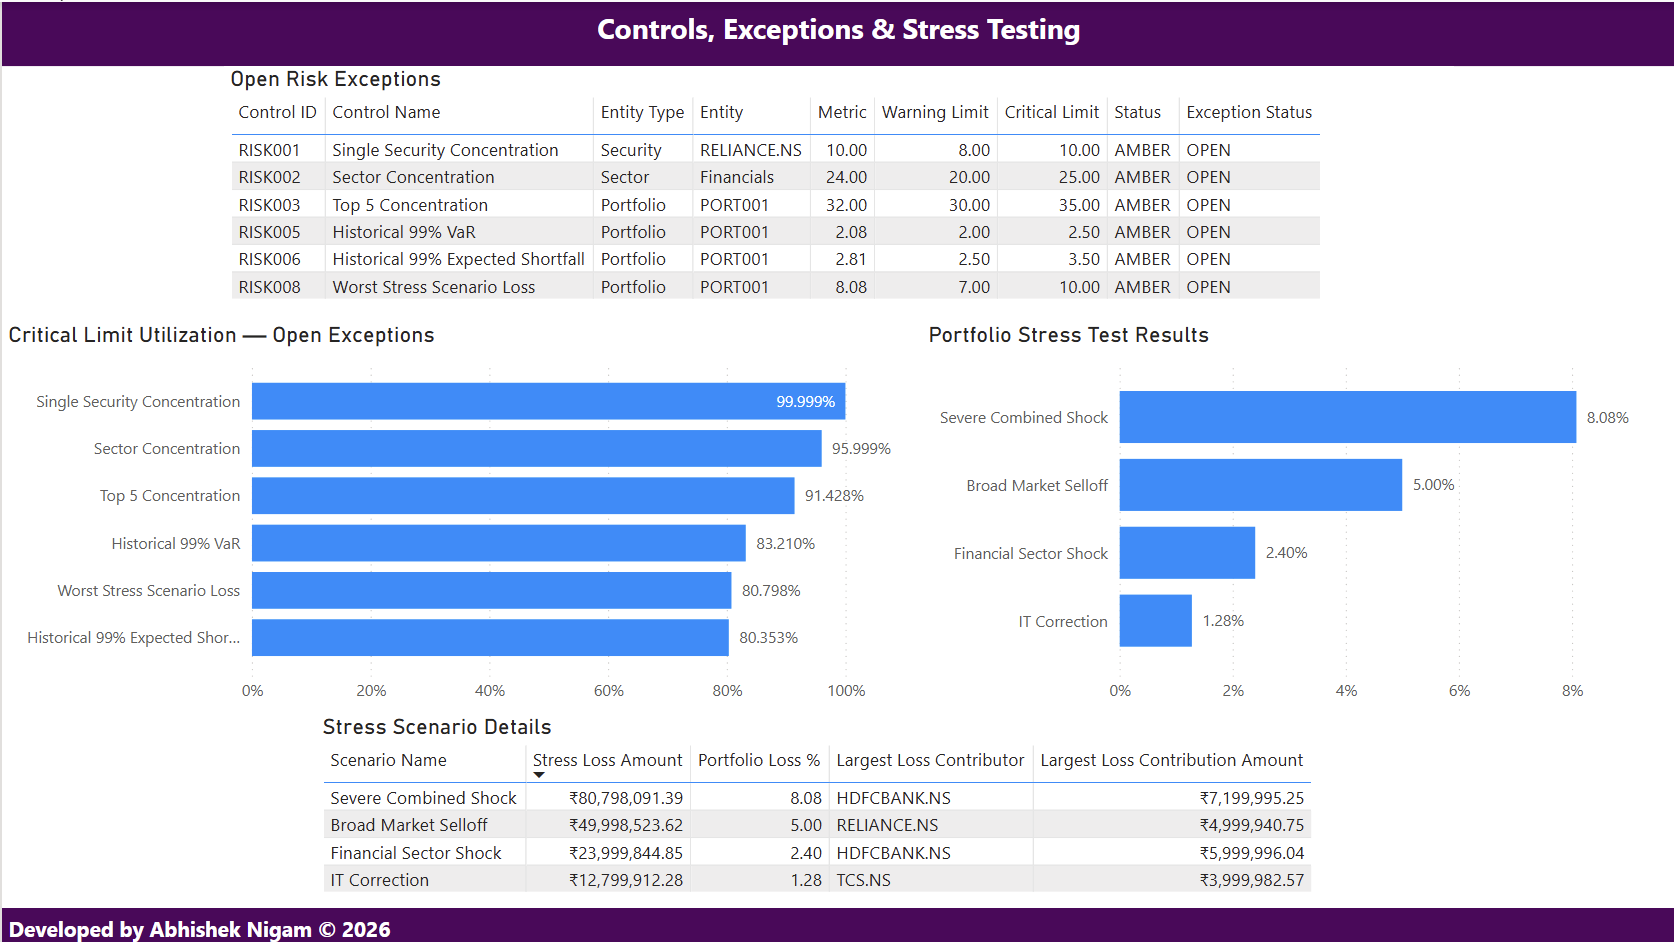

What the dashboard file says about the page in this screenshot:
{"tool":"powerbi","page":{"name":"Controls & Stress","canvas":[1280,720],"ordinal":2},"visuals":[{"type":"textbox","box":[0,0,1280,48.9],"z":0},{"type":"tableEx","title":"Open Risk Exceptions","fields":{"Values":["risk_platform vw_controls_exceptions.control_id","risk_platform vw_controls_exceptions.control_name","risk_platform vw_controls_exceptions.entity_type","risk_platform vw_controls_exceptions.entity_name","risk_platform vw_controls_exceptions.metric_value","risk_platform vw_controls_exceptions.warning_threshold","risk_platform vw_controls_exceptions.critical_threshold","risk_platform vw_controls_exceptions.status","risk_platform vw_controls_exceptions.exception_status"]},"box":[169.7,48.9,940.5,183.5],"z":1000},{"type":"clusteredBarChart","title":"Critical Limit Utilization — Open Exceptions","fields":{"Category":["risk_platform vw_controls_exceptions.control_name"],"Y":["risk_platform vw_controls_exceptions.Critical Limit Utilization"]},"box":[0,244.7,712.6,299.7],"z":2000},{"type":"clusteredBarChart","title":"Portfolio Stress Test Results","fields":{"Category":["risk_platform vw_stress_scenarios.scenario_name"],"Y":["risk_platform vw_stress_scenarios.Stress Loss Display"]},"box":[703.5,244.7,558.2,299.7],"z":3000},{"type":"tableEx","title":"Stress Scenario Details","fields":{"Values":["risk_platform vw_stress_scenarios.scenario_name","risk_platform vw_stress_scenarios.stress_loss_amount","risk_platform vw_stress_scenarios.portfolio_loss_pct","risk_platform vw_stress_scenarios.largest_loss_contributor","risk_platform vw_stress_scenarios.largest_loss_contribution_amount"]},"box":[240.1,544.4,804.4,148.3],"z":4000},{"type":"textbox","box":[0,692.8,1280,30.6],"z":4001}]}

Visuals, with their boxes in screenshot pixels (x1, y1, x2, y2), scaled from the page's 1280x720 canvas onto the 1674x942 screenshot:
textbox: crop(0, 0, 1673, 64)
"Open Risk Exceptions" tableEx: crop(222, 64, 1452, 304)
"Critical Limit Utilization — Open Exceptions" clusteredBarChart: crop(0, 320, 932, 712)
"Portfolio Stress Test Results" clusteredBarChart: crop(920, 320, 1650, 712)
"Stress Scenario Details" tableEx: crop(314, 712, 1366, 906)
textbox: crop(0, 906, 1673, 941)
